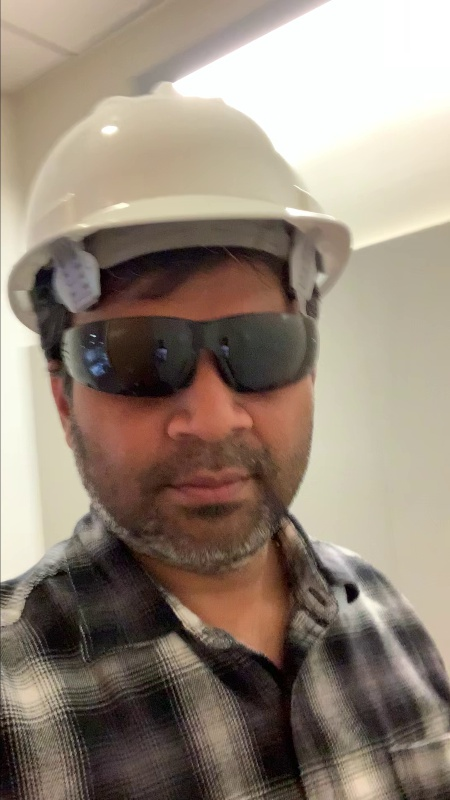glasses: (57, 309, 323, 392)
helmet: (27, 89, 327, 220)
